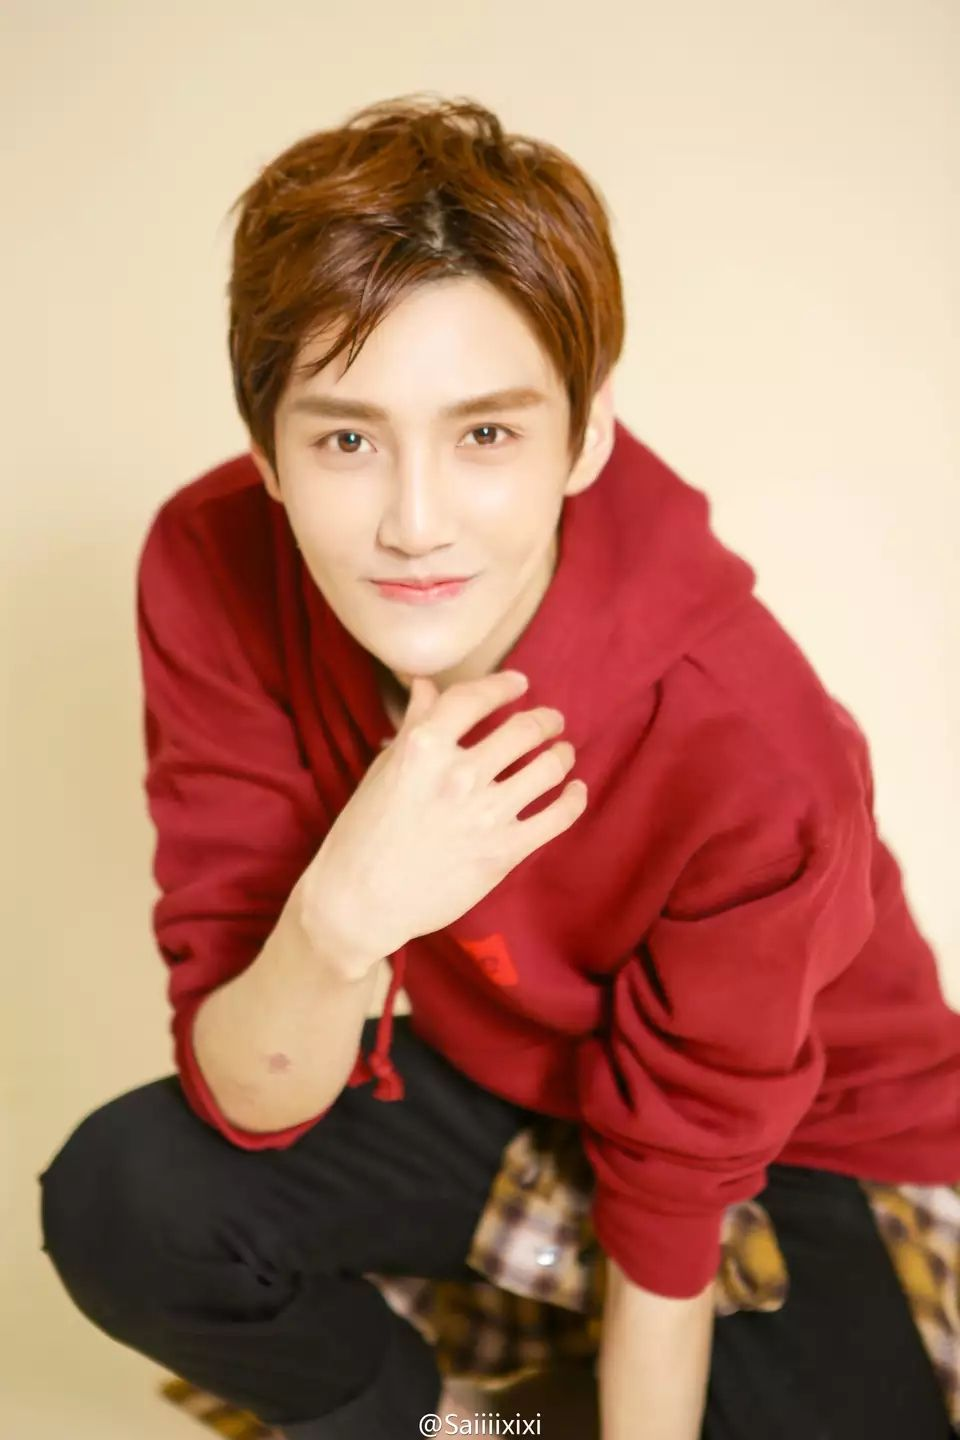person: (172, 176, 960, 1440)
